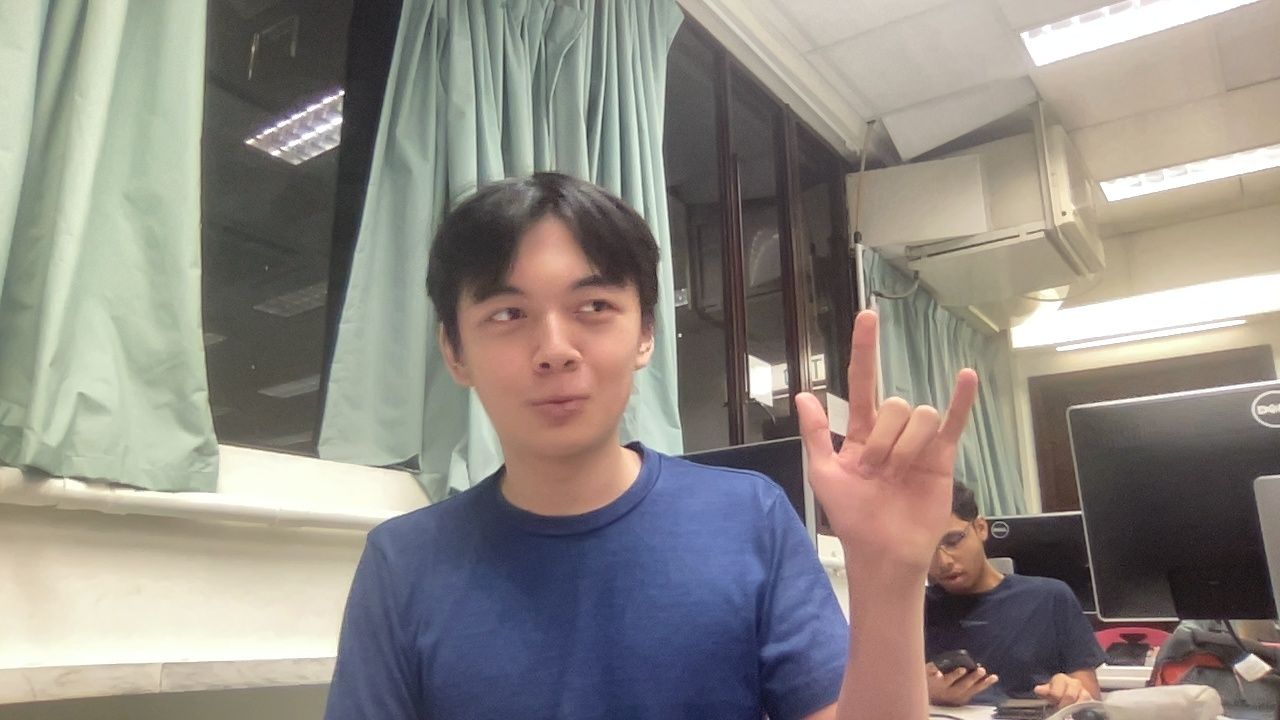iloveyou: (772, 313, 1076, 622)
